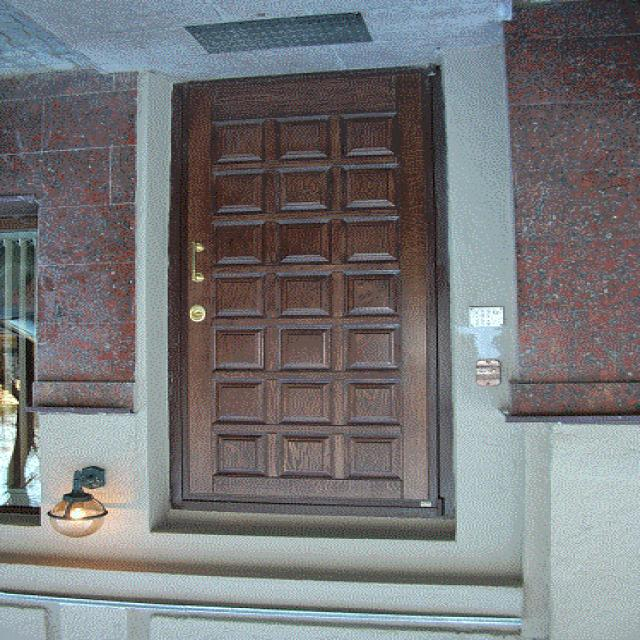close: (164, 71, 445, 515)
